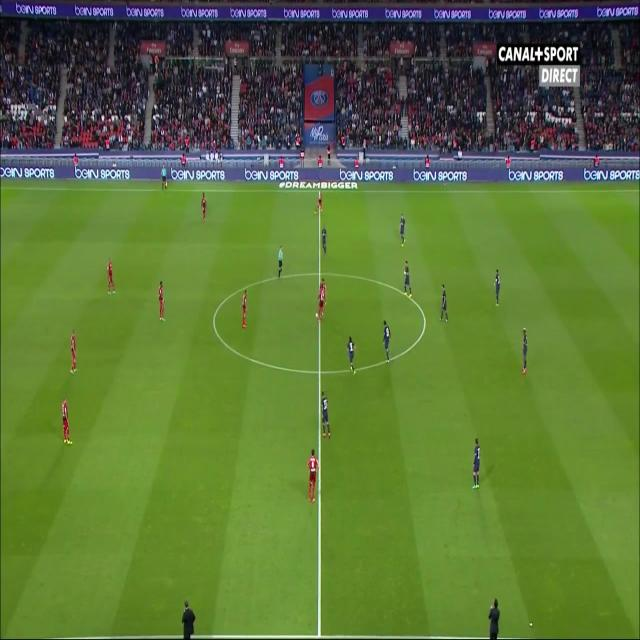Ball: (314, 310, 319, 322)
Player: (305, 449, 320, 505), (471, 434, 482, 494), (61, 396, 72, 450), (321, 387, 331, 443), (520, 324, 530, 379), (69, 326, 79, 376), (318, 276, 327, 328), (398, 208, 409, 250), (156, 279, 166, 324), (106, 259, 117, 299), (382, 319, 392, 363), (346, 333, 356, 376), (438, 281, 448, 324), (240, 288, 250, 330), (492, 268, 502, 310), (402, 260, 412, 301), (312, 194, 324, 219), (199, 191, 208, 223), (321, 224, 328, 256)
Referee: (275, 245, 285, 280), (160, 163, 167, 193)
